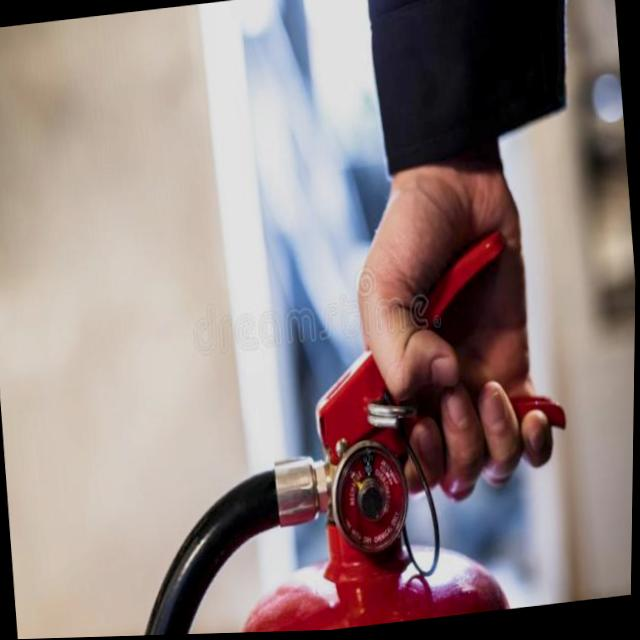FireExtinguisher: (100, 215, 589, 638)
